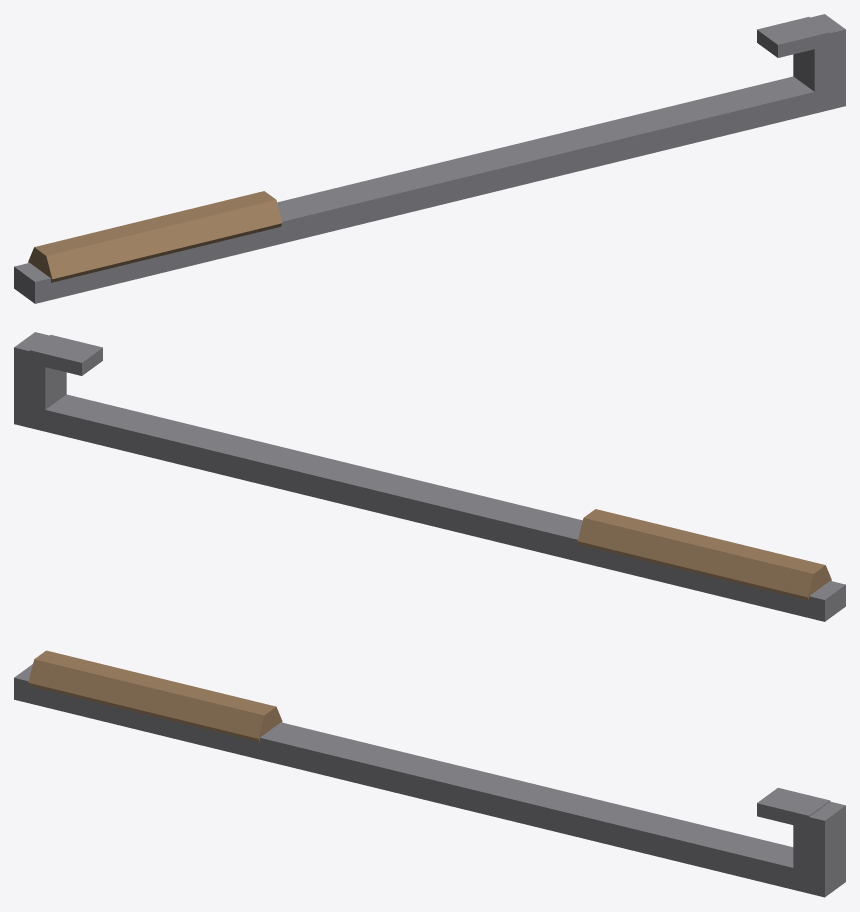
Rendered from prop-tire-iron-wr1.fbx.
3 renders of one model, top to bottom at view 1: azimuth 30°, elevation 25°; view 2: azimuth 150°, elevation 25°; view 3: azimuth 330°, elevation 25°, orthographic.
Parts seen in each view (by area): view 1: prop-tire-iron-wr1; view 2: prop-tire-iron-wr1; view 3: prop-tire-iron-wr1.
Boxes of the visible parts, x1=… form: prop-tire-iron-wr1: x1=14, y1=14, x2=845, y2=303; prop-tire-iron-wr1: x1=14, y1=332, x2=845, y2=621; prop-tire-iron-wr1: x1=14, y1=650, x2=845, y2=897.
Size of the model in its own units: 77.5 by 7.1 by 4.
